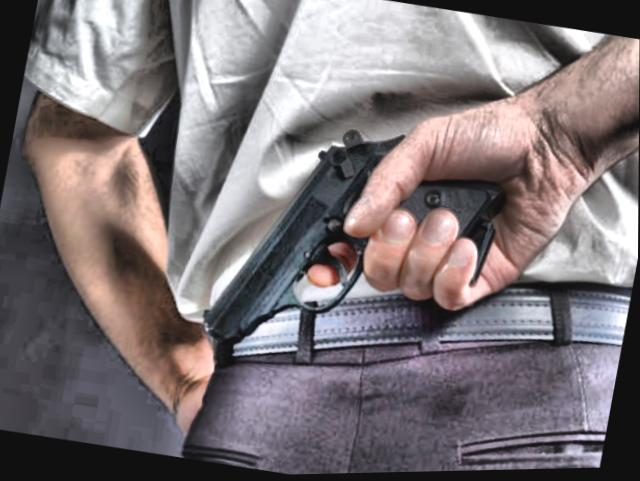pistol: (192, 98, 518, 392)
